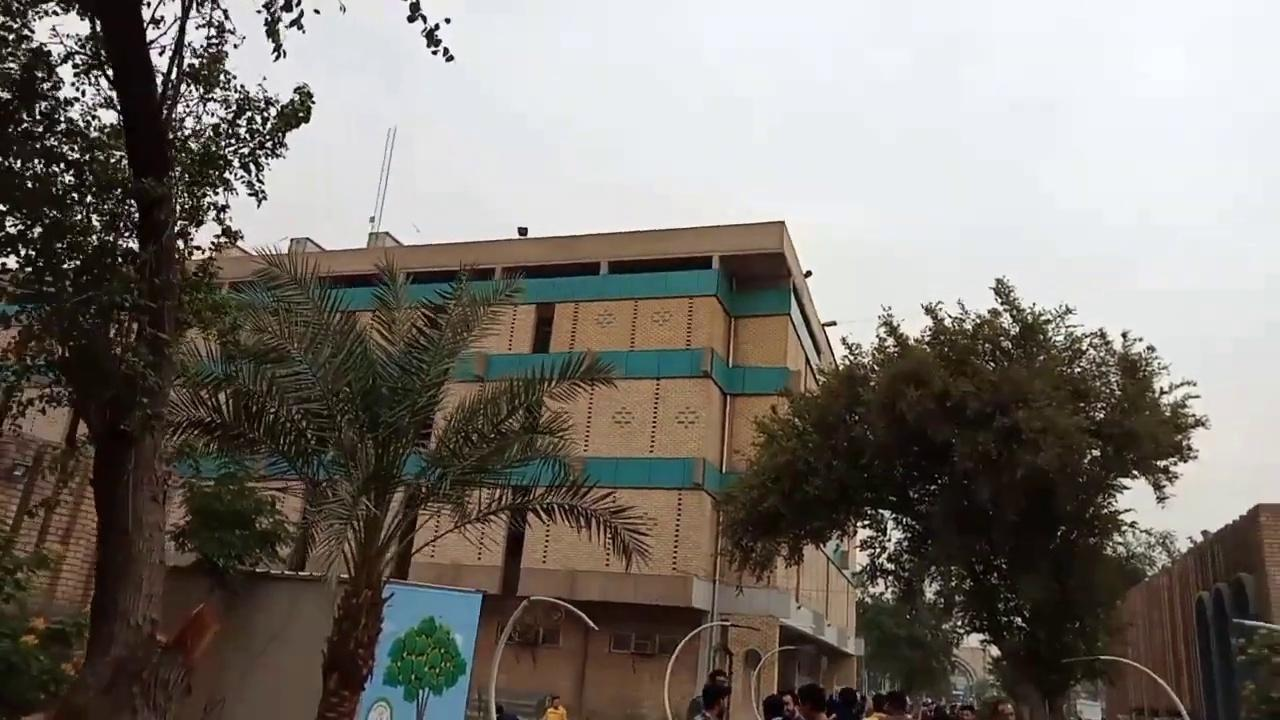person: (687, 668, 731, 719), (541, 694, 567, 719), (367, 700, 390, 719), (495, 703, 520, 719)
tree: (0, 0, 455, 718), (715, 273, 1210, 718), (182, 253, 595, 720), (381, 613, 468, 718)
